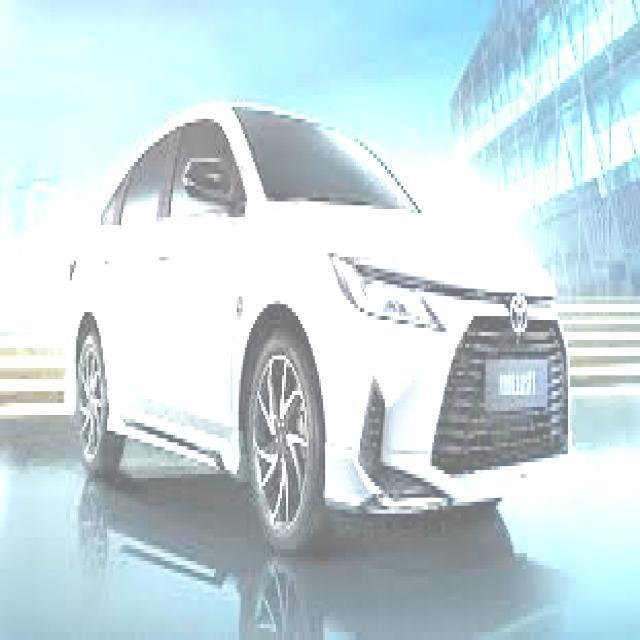ToyotaVios: (66, 100, 570, 555)
